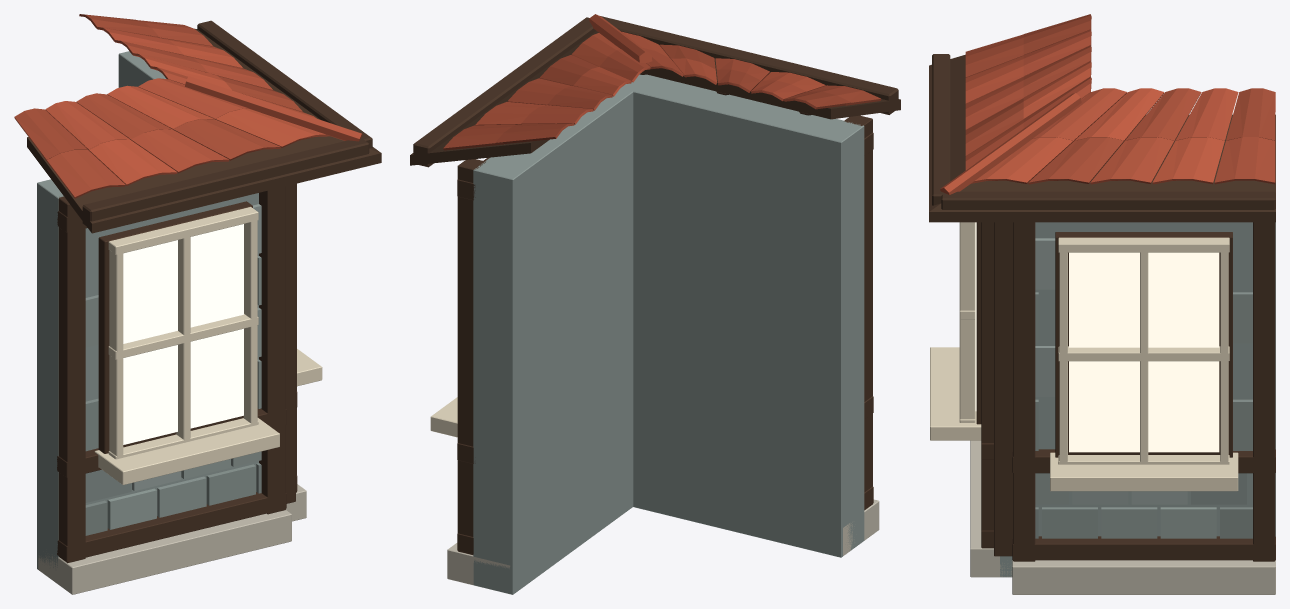
File: SM_Wall_Corner_L1.glb
The picture shows the model from 3 angles, left to right: view 1: azimuth 30°, elevation 25°; view 2: azimuth 150°, elevation 25°; view 3: azimuth 270°, elevation 25°; orthographic projection. The views are drawn at different scales.
Visible parts, largest first — view 1: SM_Wall_Corner; view 2: SM_Wall_Corner; view 3: SM_Wall_Corner.
Boxes of the visible parts, bbox=[...] form: SM_Wall_Corner: bbox=[14, 14, 381, 594]; SM_Wall_Corner: bbox=[410, 14, 900, 594]; SM_Wall_Corner: bbox=[929, 14, 1275, 594].
Size of the model in its own units: 2.63 by 3.83 by 2.63.
